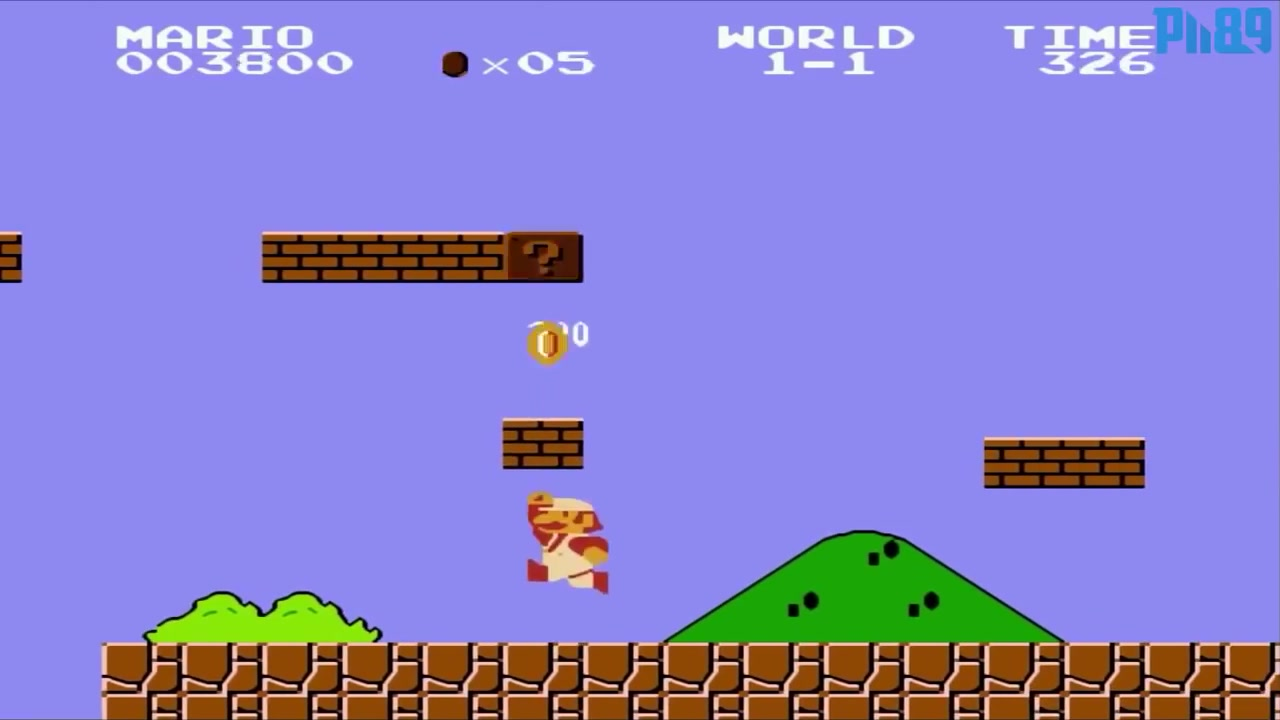mario: (517, 484, 611, 596)
